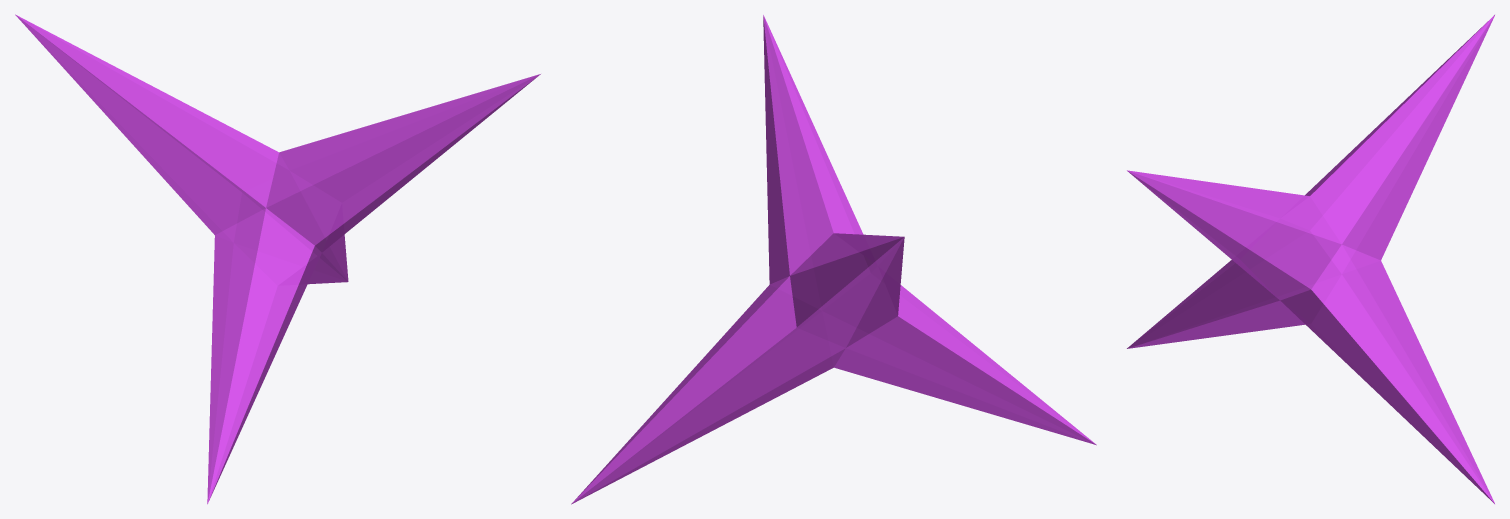
The model's file is HexakisTetrahedron_n41.obj.
The picture shows the model from 3 angles, left to right: view 1: azimuth 30°, elevation 25°; view 2: azimuth 150°, elevation 25°; view 3: azimuth 270°, elevation 25°; orthographic projection. The views are drawn at different scales.
Size of the model in its own units: 7.36 by 7.36 by 7.35.
